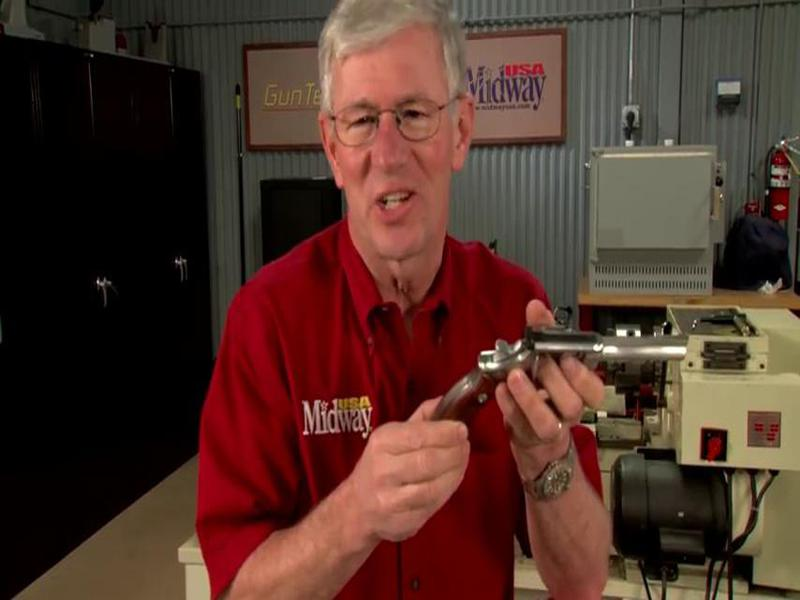Revolver: (401, 303, 694, 484)
